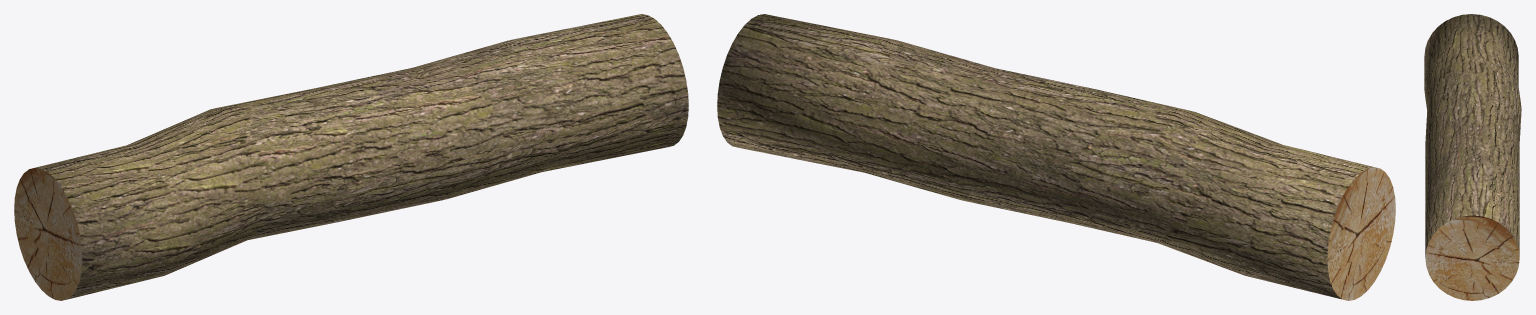
Rendered from log3.glb.
3 renders of one model, left to right at view 1: azimuth 30°, elevation 25°; view 2: azimuth 150°, elevation 25°; view 3: azimuth 270°, elevation 25°, orthographic. The views are drawn at different scales.
Visible parts, largest first — view 1: log3; view 2: log3; view 3: log3.
Boxes of the visible parts, x1=… form: log3: x1=14, y1=14, x2=688, y2=300; log3: x1=717, y1=14, x2=1395, y2=300; log3: x1=1424, y1=14, x2=1521, y2=300.
Size of the model in its own units: 2.7 by 0.5823 by 0.5412.
Materials: 1 (1 with a texture image).
